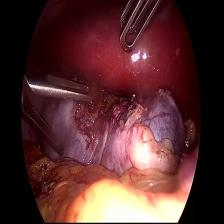Grasper: (22, 74, 101, 160), (117, 1, 164, 53)
